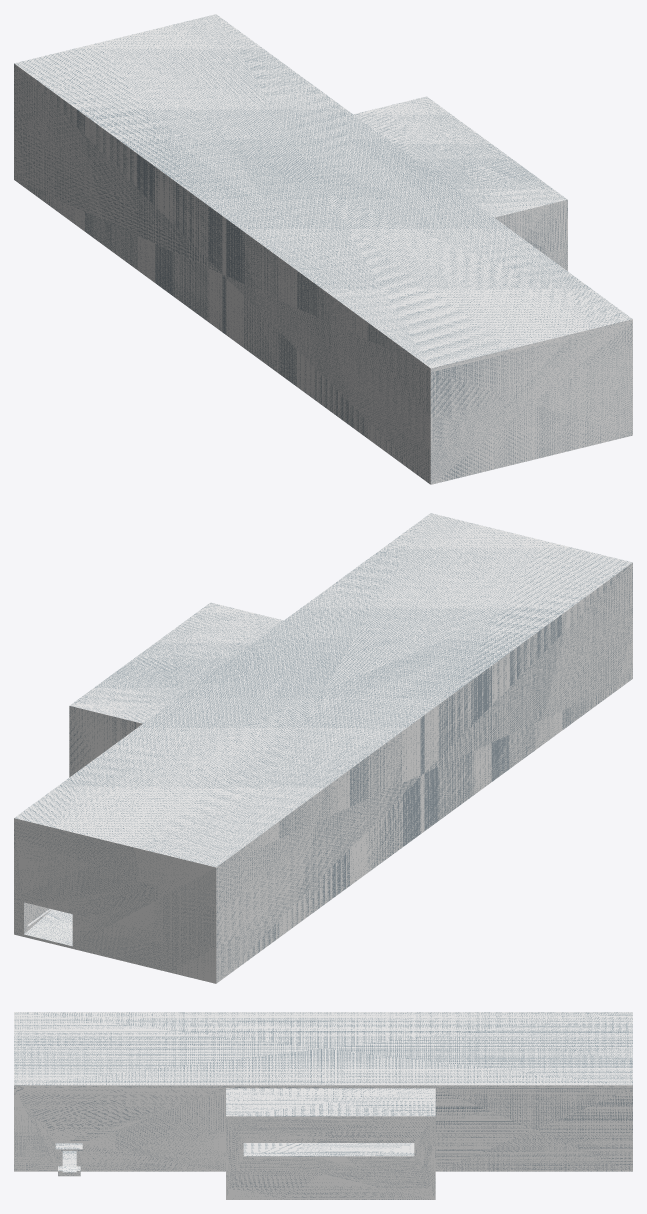
File: Military HQ unit.fbx
3 renders of one model, top to bottom at view 1: azimuth 30°, elevation 25°; view 2: azimuth 150°, elevation 25°; view 3: azimuth 270°, elevation 25°, orthographic. The views are drawn at different scales.
Parts seen in each view (by area): view 1: Model; view 2: Model; view 3: Model.
Boxes of the visible parts, <box> form: Model: <box>14,14,632,484</box>; Model: <box>14,513,632,983</box>; Model: <box>14,1012,632,1199</box>.
Bounding box in the file's own units: 27.69 × 11.01 × 71.45.
